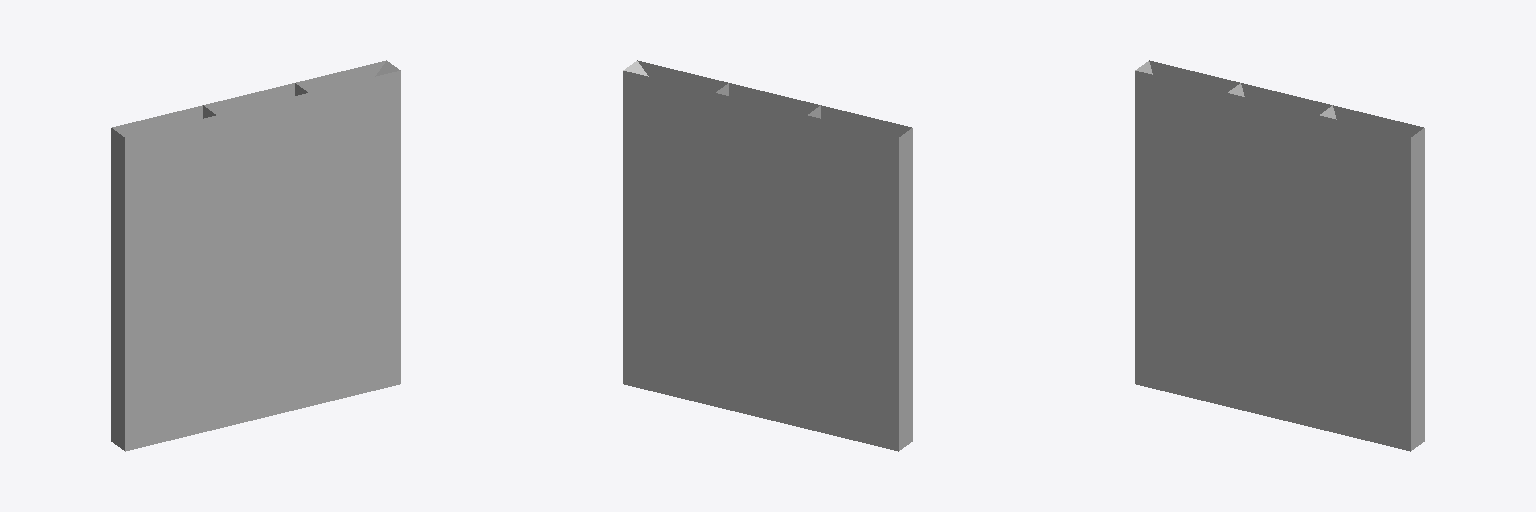
The model's file is 3d_Felwood-Pond 01.wlw.obj.
3 views of the same model, side by side, from view 1: azimuth 30°, elevation 25°; view 2: azimuth 150°, elevation 25°; view 3: azimuth 330°, elevation 25° (orthographic).
Bounding box in the file's own units: 115 × 126 × 10.